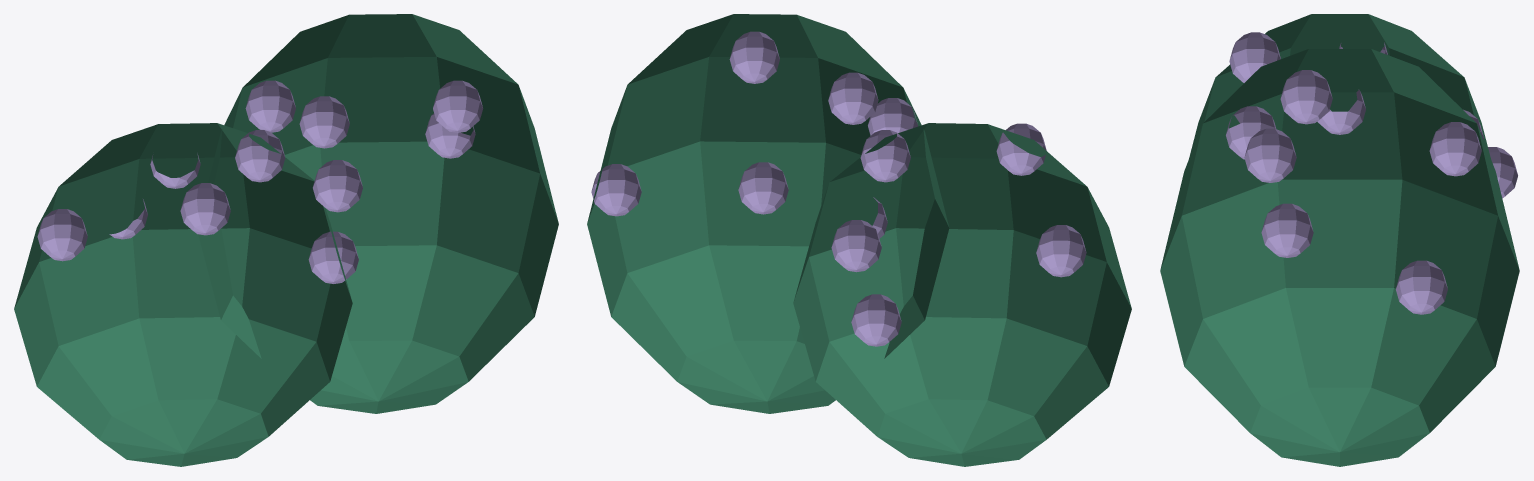
The model's file is turning-seasons-berry-bush-e1204135__2126.glb.
3 views of the same model, side by side, from view 1: azimuth 30°, elevation 25°; view 2: azimuth 150°, elevation 25°; view 3: azimuth 270°, elevation 25° (orthographic). The views are drawn at different scales.
Parts seen in each view (by area): view 1: berry-bush; view 2: berry-bush; view 3: berry-bush.
Boxes of the visible parts, x1,y1,x2,y2 form: berry-bush: (14,14,558,466); berry-bush: (587,14,1131,466); berry-bush: (1160,14,1519,466).
Bounding box in the file's own units: 1.08 × 0.79 × 0.65.
